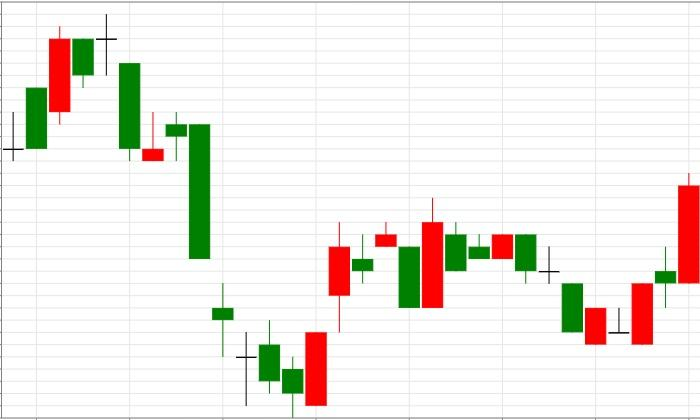evening_star_fall: (3, 13, 141, 161)
